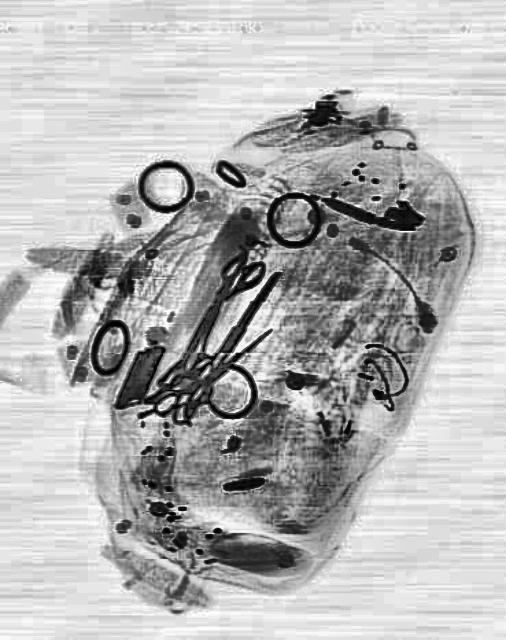Scissors: (162, 248, 310, 454), (179, 238, 267, 362)
